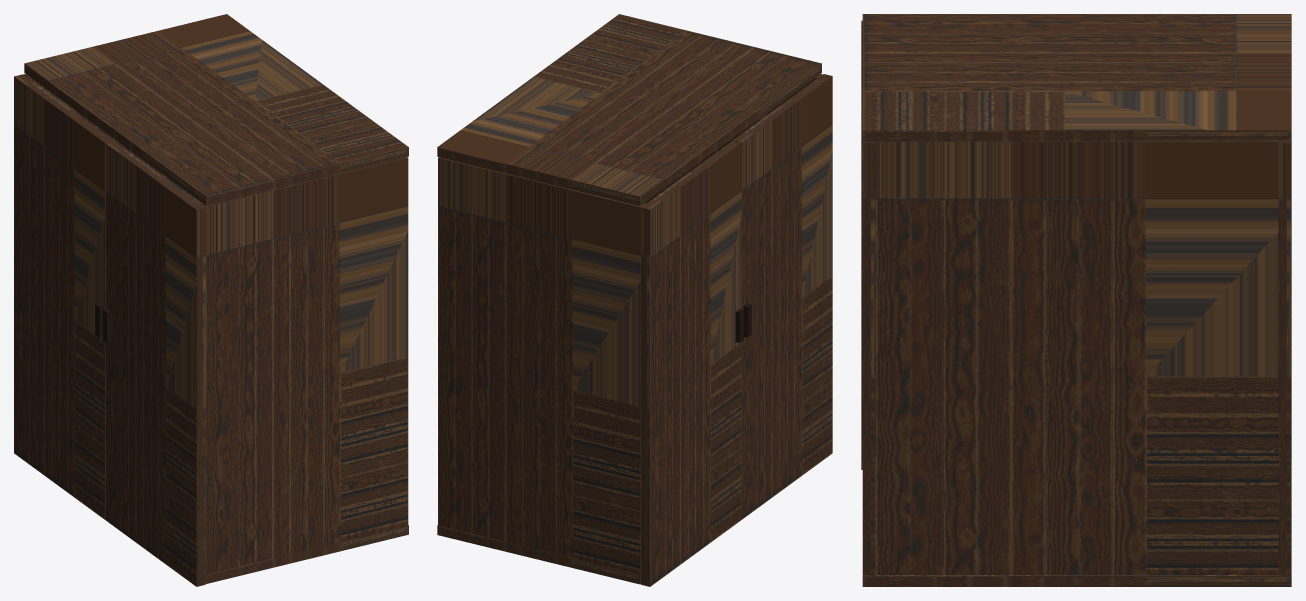
File: closet.fbx
The picture shows the model from 3 angles, left to right: view 1: azimuth 30°, elevation 25°; view 2: azimuth 150°, elevation 25°; view 3: azimuth 270°, elevation 25°; orthographic projection. The views are drawn at different scales.
Visible parts, largest first — view 1: clothet, right door, left door; view 2: clothet, left door, right door; view 3: clothet, right door.
Part boxes in pixels (left/top/right/bottom): clothet: left=24, top=14, right=408, bottom=583; right door: left=103, top=141, right=205, bottom=586; left door: left=14, top=74, right=113, bottom=519; clothet: left=437, top=14, right=822, bottom=584; left door: left=641, top=141, right=743, bottom=586; right door: left=732, top=74, right=832, bottom=519; clothet: left=862, top=14, right=1291, bottom=586; right door: left=861, top=20, right=875, bottom=469.
Bounding box in the file's own units: 48.2 × 82.24 × 70.22.
